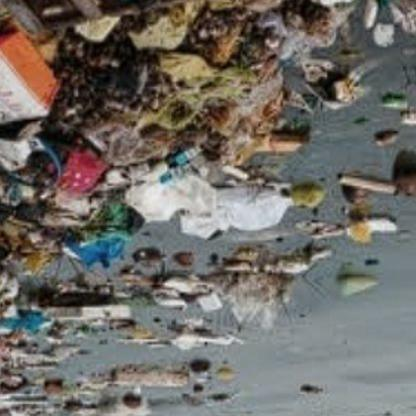Plastic: (330, 272, 382, 305)
Trash: (124, 166, 288, 240), (346, 214, 396, 248)
